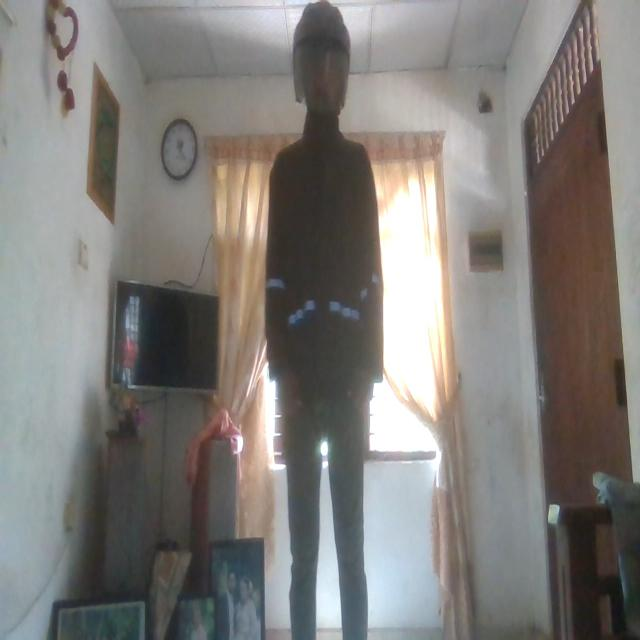Helmet_Wearer: (284, 0, 358, 148)
Jacket_Wearer: (265, 136, 385, 452)
Person: (258, 2, 393, 640)
